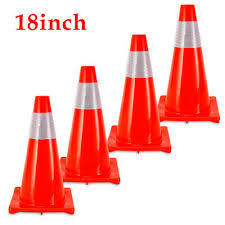cones: (9, 97, 78, 215), (106, 35, 173, 155), (159, 4, 222, 124), (63, 65, 121, 185)
